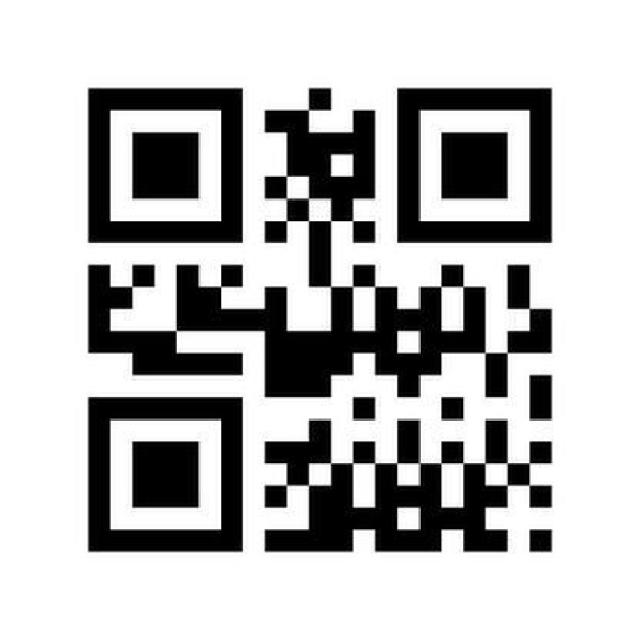QRCode: (77, 76, 567, 563)
